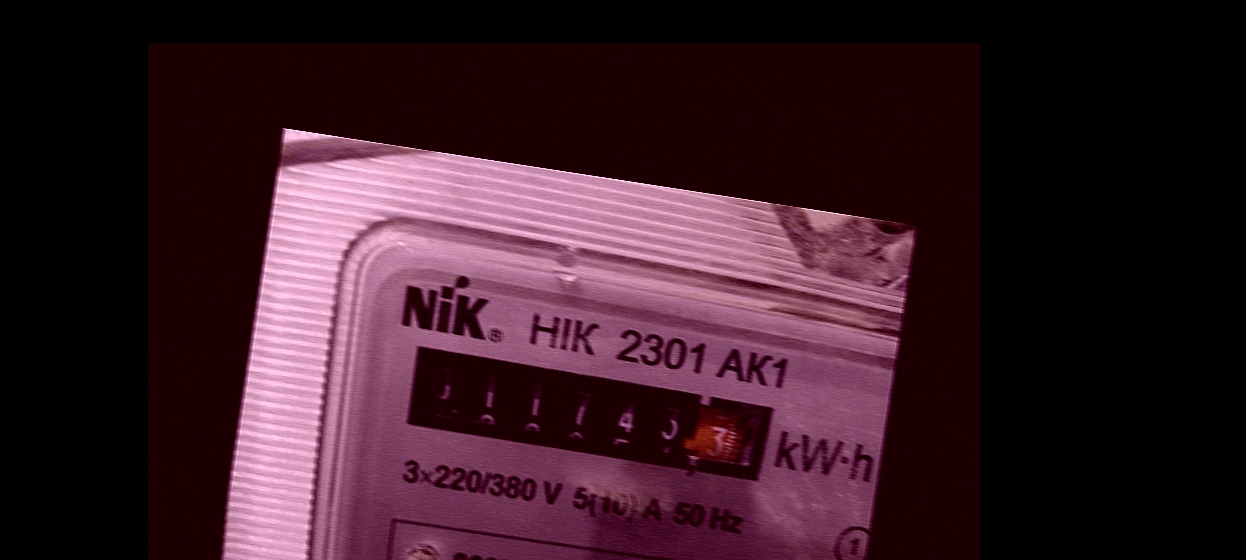0: (429, 360, 457, 402), (478, 367, 502, 410)
1: (525, 375, 547, 418)
3: (657, 398, 684, 444), (703, 418, 729, 459)
4: (613, 391, 639, 434)
7: (567, 381, 596, 428)
screen: (384, 327, 784, 492)
